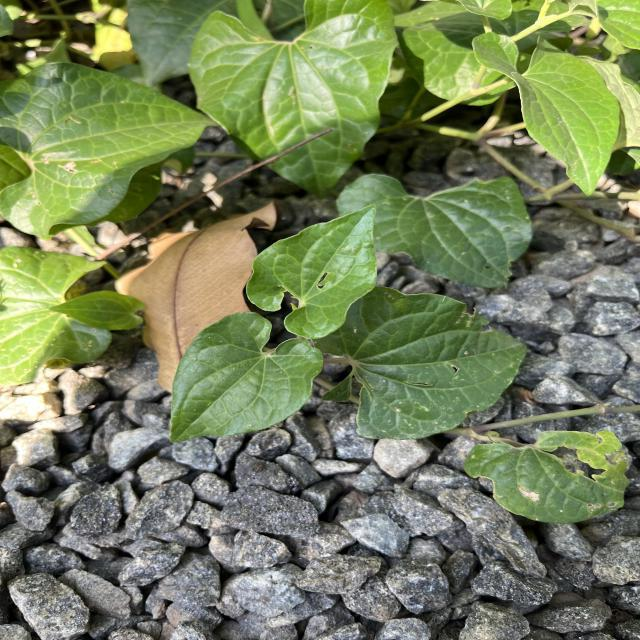Piper longum: (468, 31, 622, 198), (166, 310, 326, 446), (241, 202, 382, 341)
